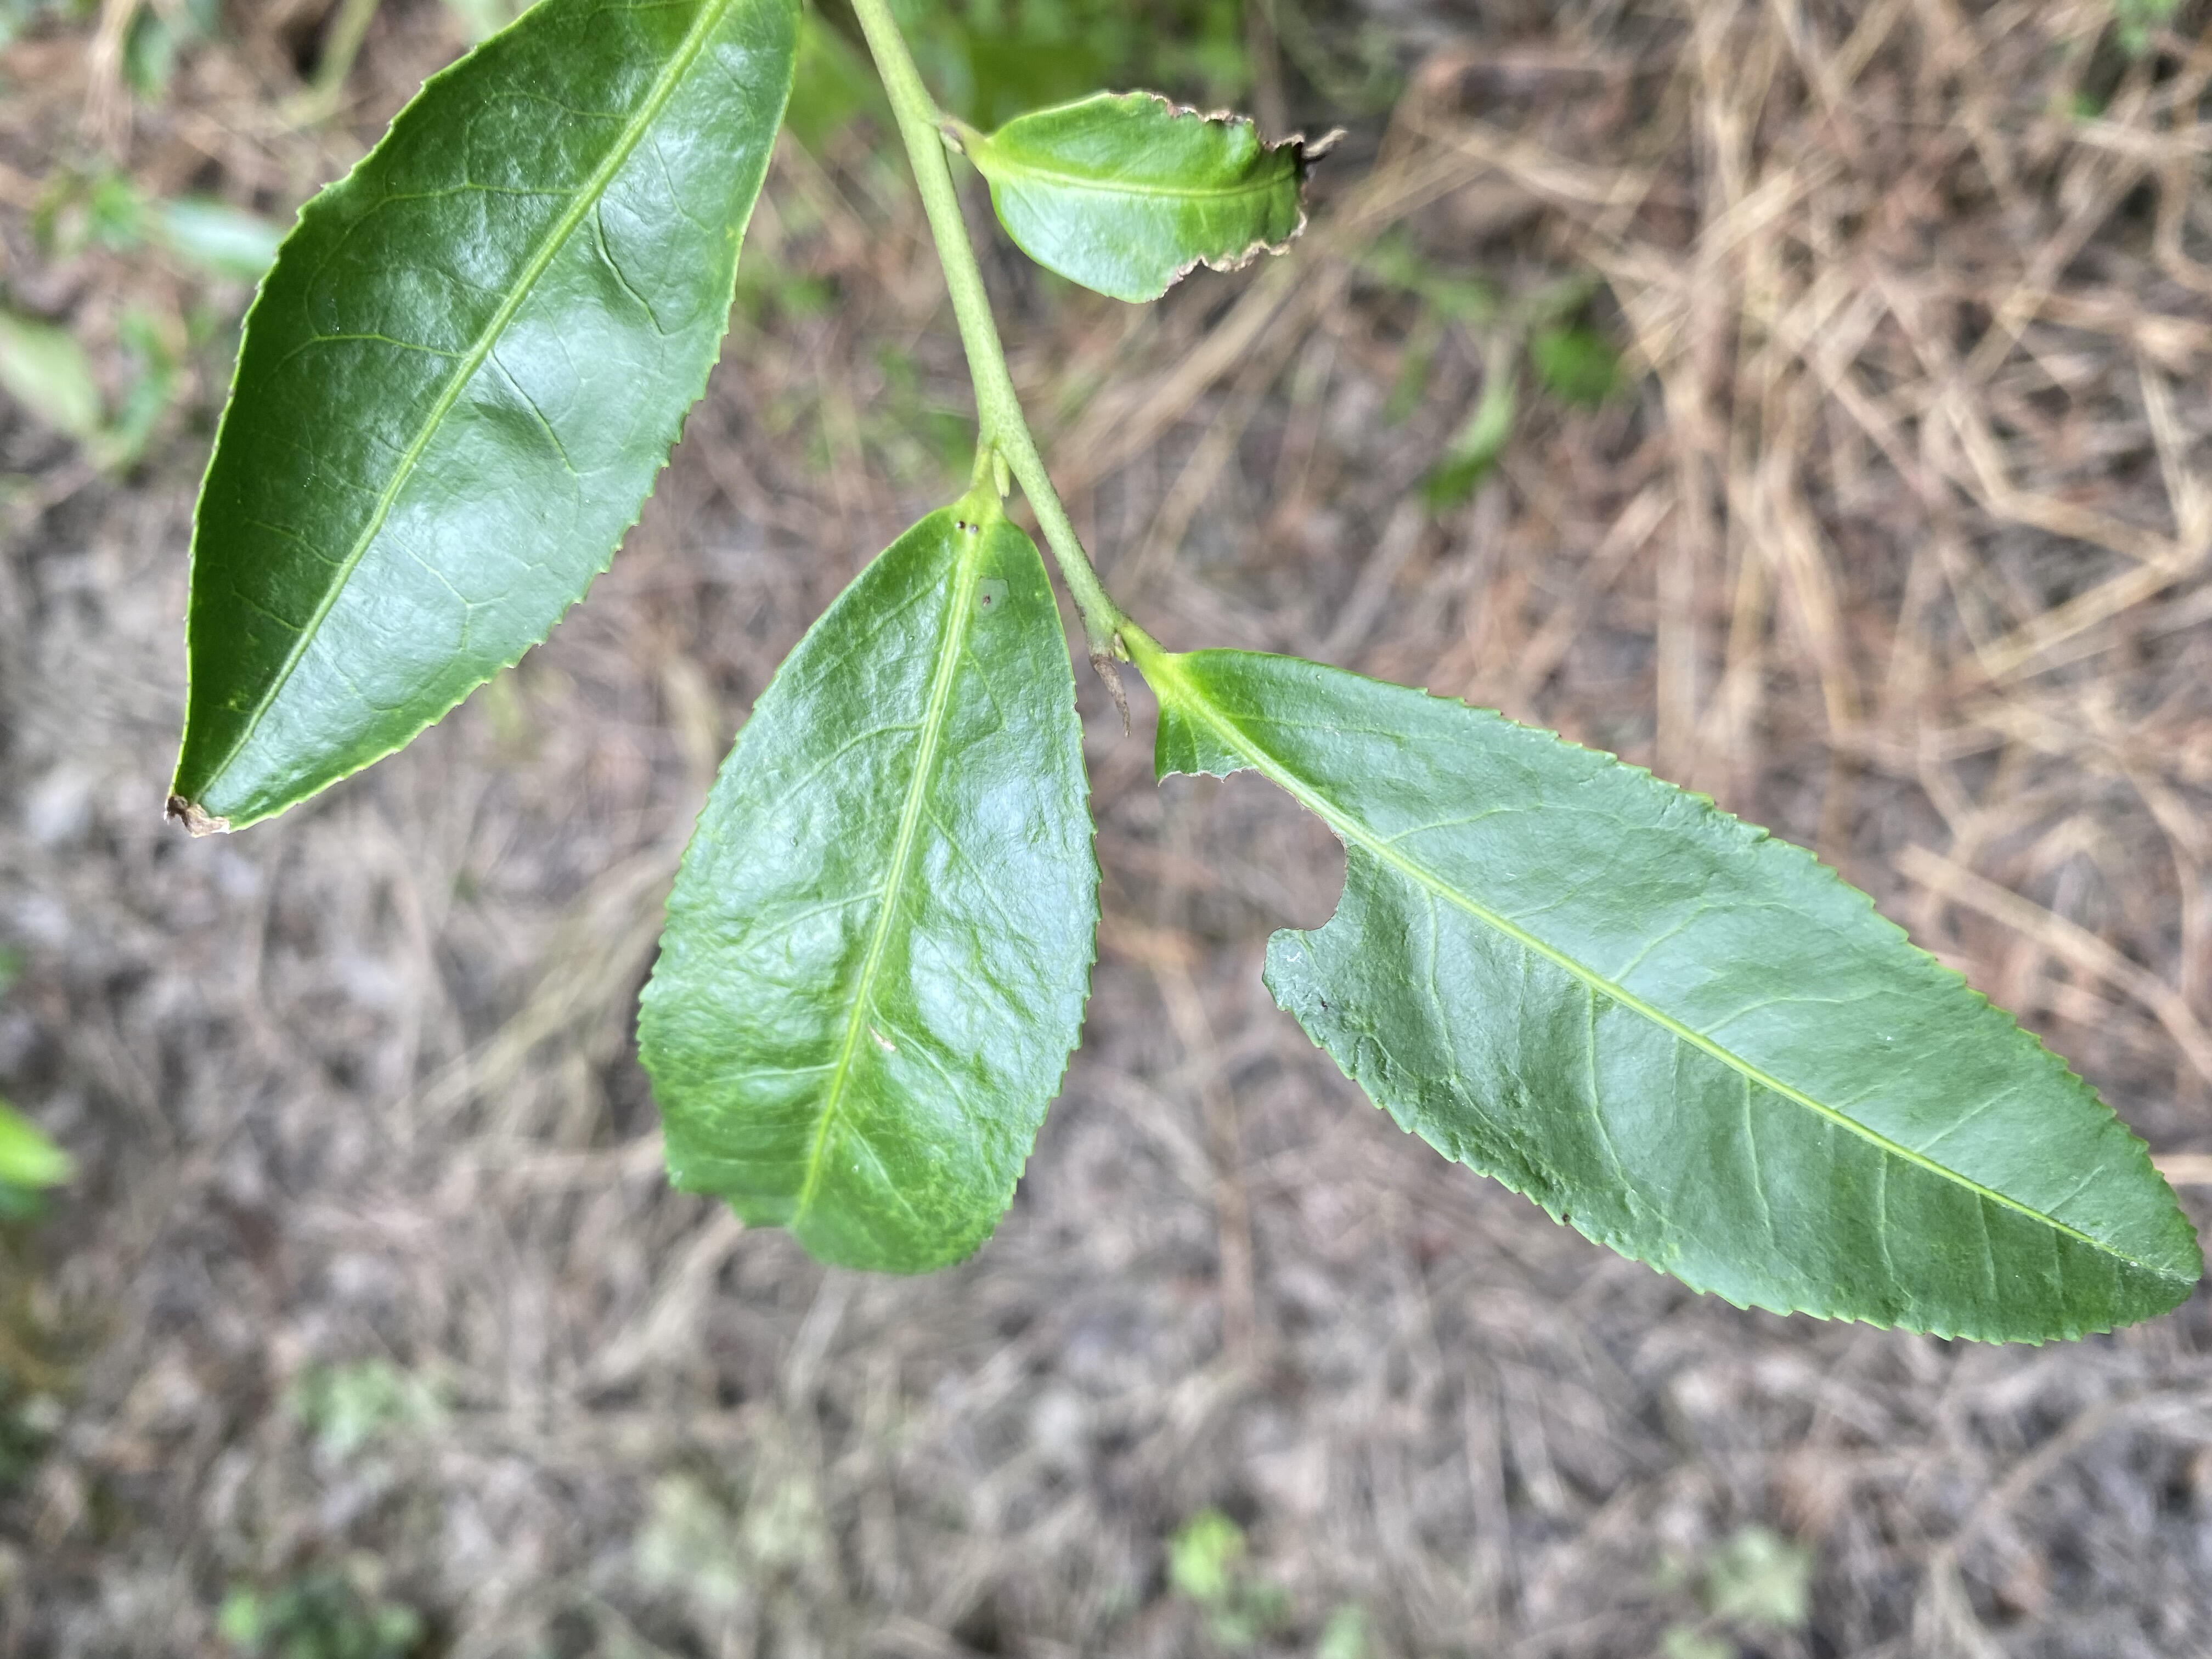chihuo_high: (975, 85, 1350, 308)
chihuo_low: (1150, 643, 2207, 1342)
healthy: (636, 509, 1104, 1277)
tanju_low: (164, 3, 801, 842)
